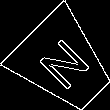N_SE: (32, 32, 96, 96)
